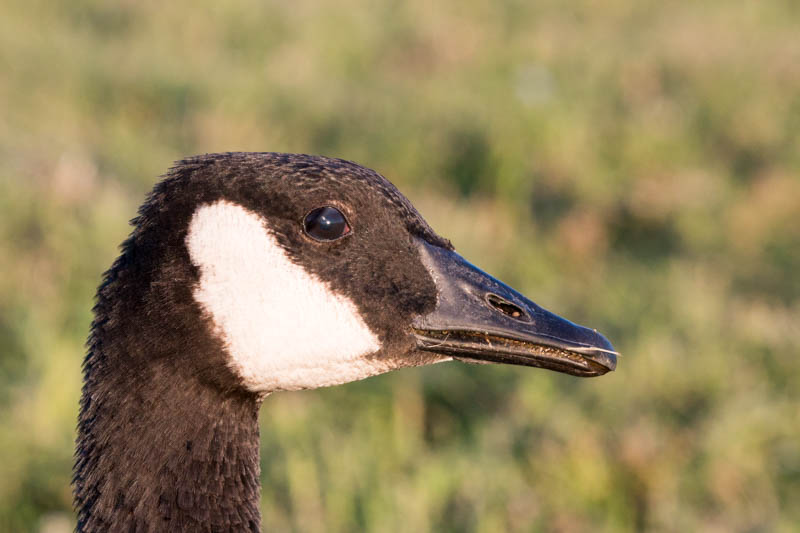goose-head: (101, 150, 619, 393)
